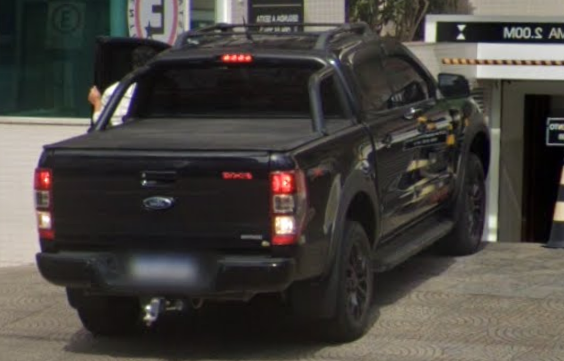car: (32, 22, 492, 342)
